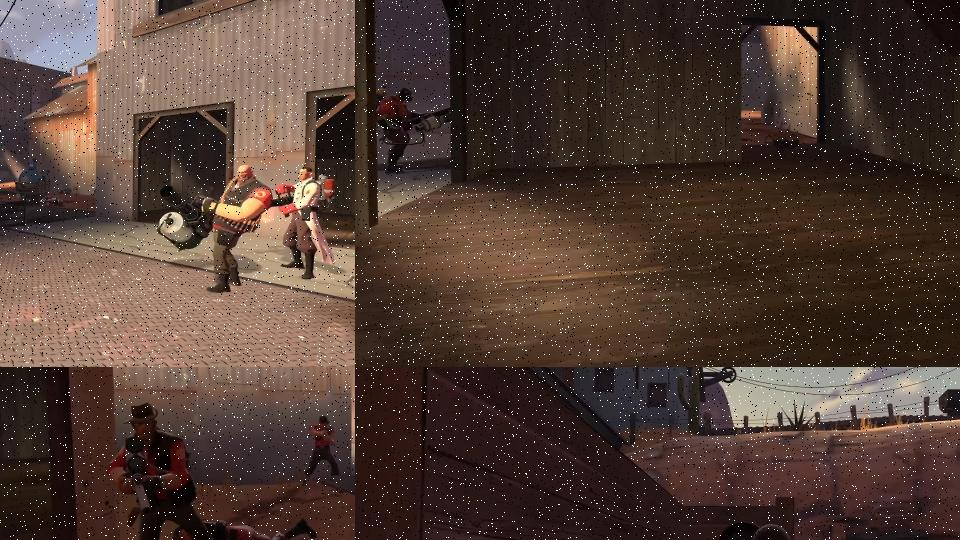Enemy: (103, 399, 219, 540), (155, 164, 274, 294), (269, 166, 337, 281), (375, 81, 453, 178), (157, 514, 322, 540), (299, 413, 348, 496)
